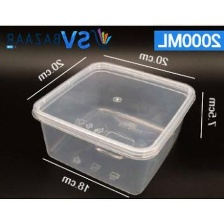plastic_box: (26, 55, 204, 198)
